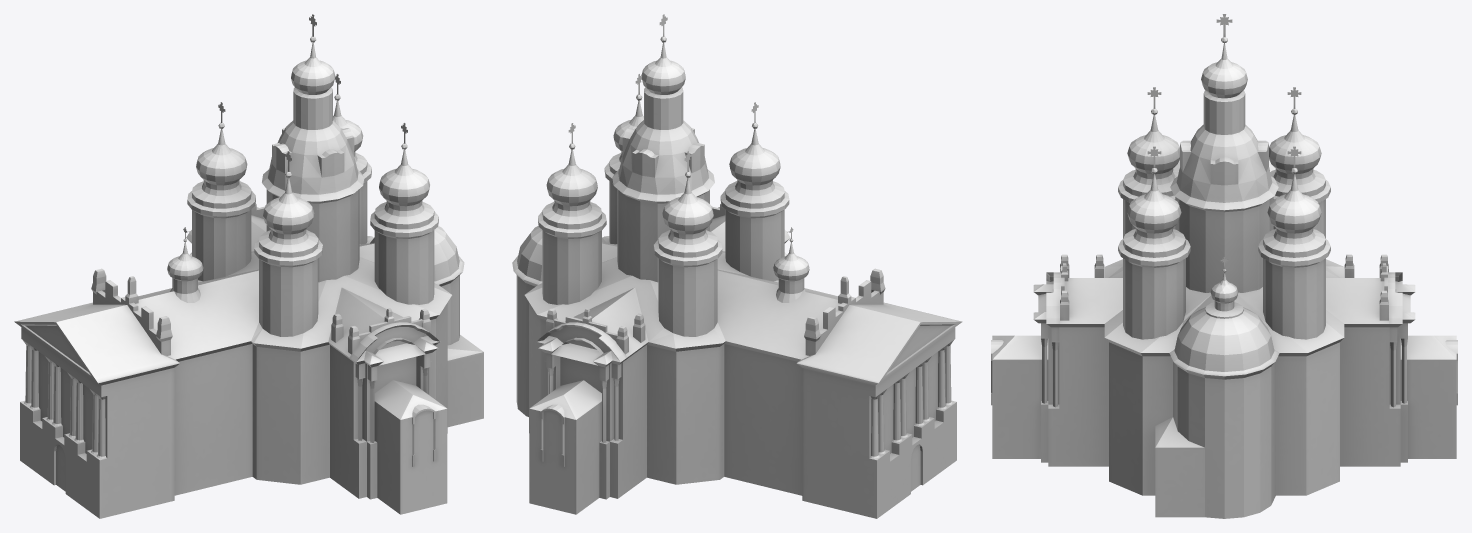
The model's file is soborvladimera.dae.
The picture shows the model from 3 angles, left to right: view 1: azimuth 30°, elevation 25°; view 2: azimuth 150°, elevation 25°; view 3: azimuth 270°, elevation 25°; orthographic projection. The views are drawn at different scales.
Parts seen in each view (by area): view 1: soborvladimera; view 2: soborvladimera; view 3: soborvladimera.
Boxes of the visible parts, x1,y1,x2,y2 form: soborvladimera: [14, 14, 483, 518]; soborvladimera: [512, 14, 962, 518]; soborvladimera: [991, 14, 1457, 518].
Size of the model in its own units: 0.082 by 0.0788 by 0.0806.
Materials: 1 (1 with a texture image).
